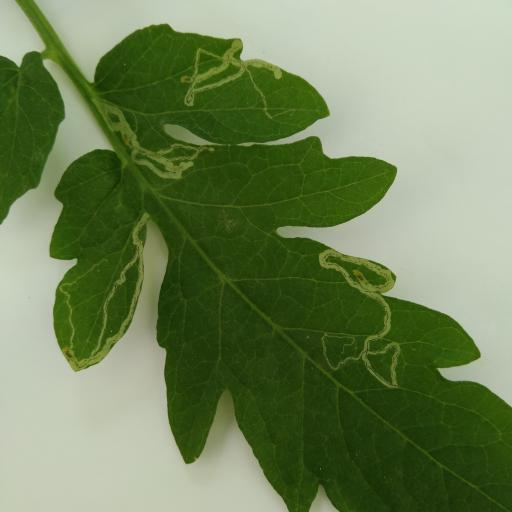disease_tomato: (49, 18, 512, 512)
